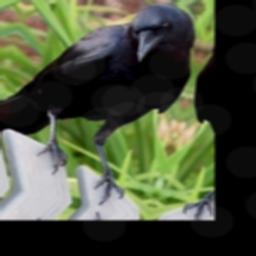Crow: (0, 0, 210, 217)
